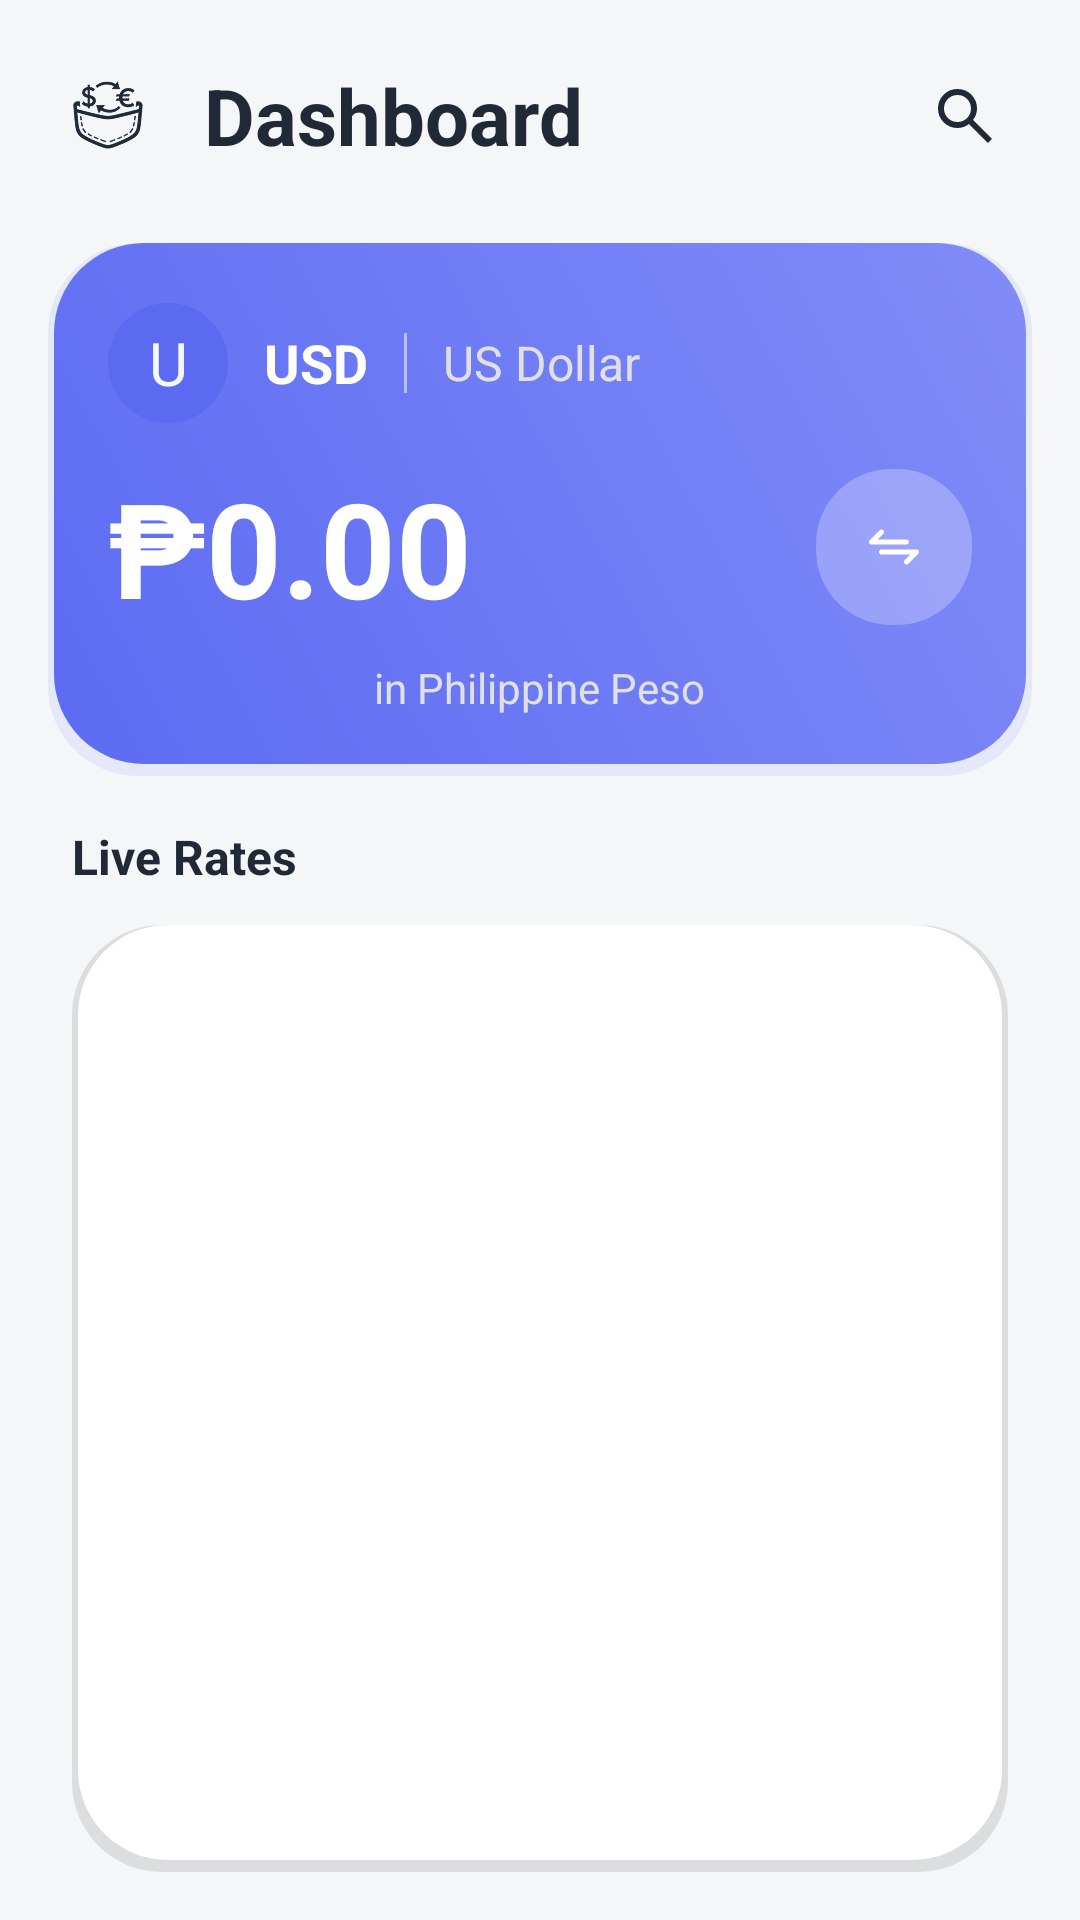

Locate icon controls on the screen. Image size 1080*1920, boxes as (x1,y1,x2,y2).
exchange: (816,469,972,625)
search: (938,89,992,143)
